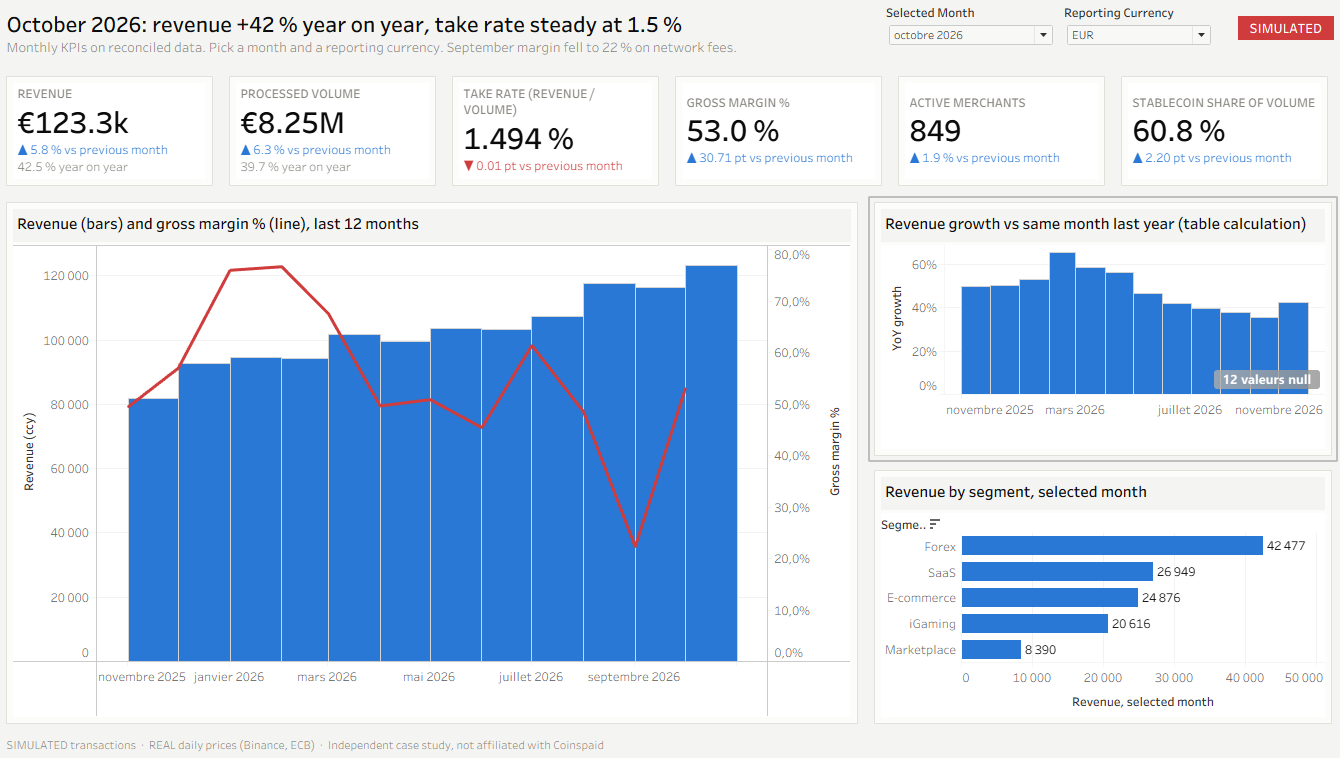

Layout of this report page (visuals, bound fields, positions):
{"tool":"tableau","page":{"name":"1 Executive overview","canvas":[1366,768],"ordinal":0},"visuals":[{"type":"text","box":[16,8,876,66]},{"type":"parameter","param":"[Parameters].[Selected Month]","box":[900,12,170,56]},{"type":"parameter","param":"[Parameters].[Reporting Currency]","box":[1078,12,150,56]},{"type":"text","box":[1250,22,100,28]},{"type":"worksheet","title":"KPI Revenue","mark":"Text","box":[16,80,215,118]},{"type":"worksheet","title":"KPI Volume","mark":"Text","box":[239,80,215,118]},{"type":"worksheet","title":"KPI Take rate","mark":"Text","box":[462,80,215,118]},{"type":"worksheet","title":"KPI Margin","mark":"Text","box":[685,80,215,118]},{"type":"worksheet","title":"KPI Merchants","mark":"Text","box":[908,80,215,118]},{"type":"worksheet","title":"KPI Stablecoins","mark":"Text","box":[1131,80,215,118]},{"type":"worksheet","title":"Revenue and margin trend","mark":"Bar","rows":["Revenue (ccy)","Gross margin %"],"cols":["month"],"box":[16,206,860,530]},{"type":"worksheet","title":"Revenue YoY","mark":"Bar","rows":["Revenue YoY % (table calc)"],"cols":["month"],"box":[884,206,466,262]},{"type":"worksheet","title":"Revenue by segment","mark":"Bar","rows":["segment"],"cols":["Revenue sel (ccy)"],"box":[884,474,466,262]},{"type":"text","box":[16,742,1334,22]}]}

Visuals, with their boxes in screenshot pixels (x1, y1, x2, y2), scaled from the page's 1366x768 canvas onto the 1340x758 screenshot:
text: 16,8,875,73
parameter: 883,12,1050,67
parameter: 1057,12,1205,67
text: 1226,22,1324,49
"KPI Revenue" worksheet (Text marks): 16,79,227,195
"KPI Volume" worksheet (Text marks): 234,79,445,195
"KPI Take rate" worksheet (Text marks): 453,79,664,195
"KPI Margin" worksheet (Text marks): 672,79,883,195
"KPI Merchants" worksheet (Text marks): 891,79,1102,195
"KPI Stablecoins" worksheet (Text marks): 1109,79,1320,195
"Revenue and margin trend" worksheet (Bar marks): 16,203,859,726
"Revenue YoY" worksheet (Bar marks): 867,203,1324,462
"Revenue by segment" worksheet (Bar marks): 867,468,1324,726
text: 16,732,1324,754
